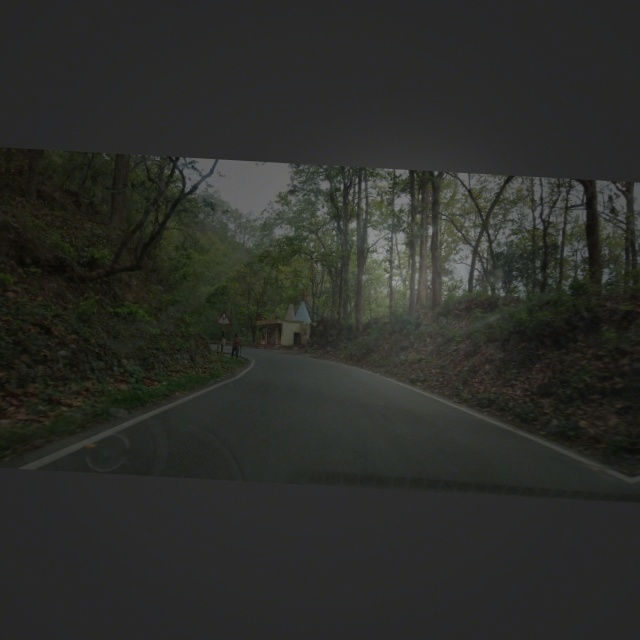Narrow_Bridge: (215, 304, 234, 327)
